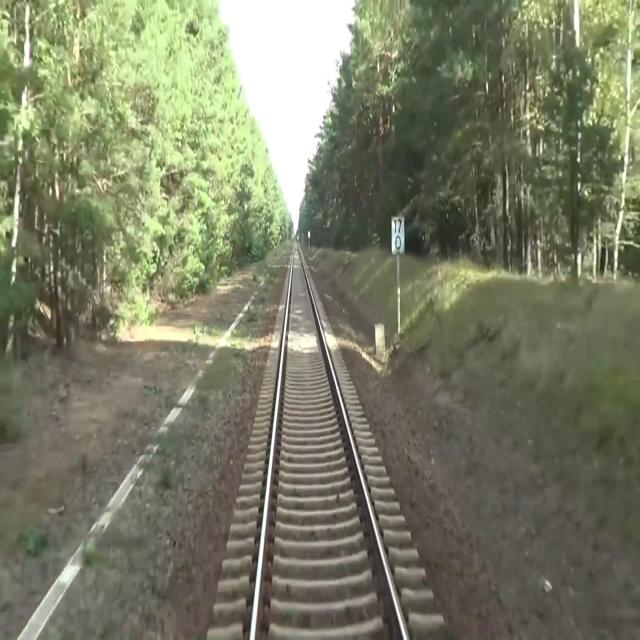rail-track: (255, 241, 404, 639)
